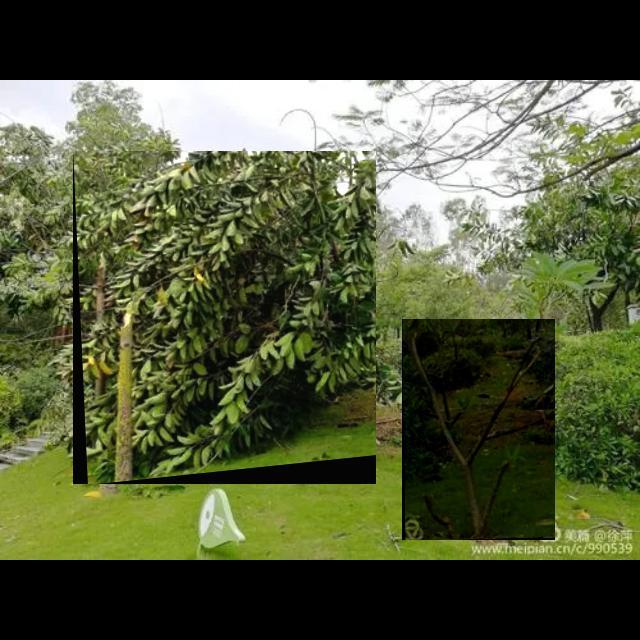fallen_tree: (73, 151, 377, 485), (402, 319, 556, 541)
